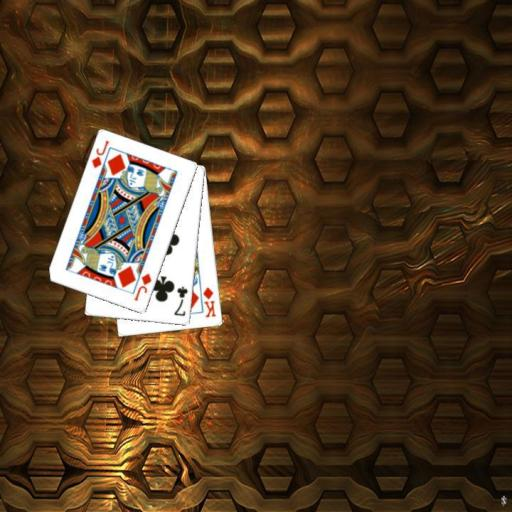7C: (171, 284, 189, 318)
JD: (131, 270, 154, 303), (88, 137, 111, 170)
KD: (200, 284, 218, 319)
